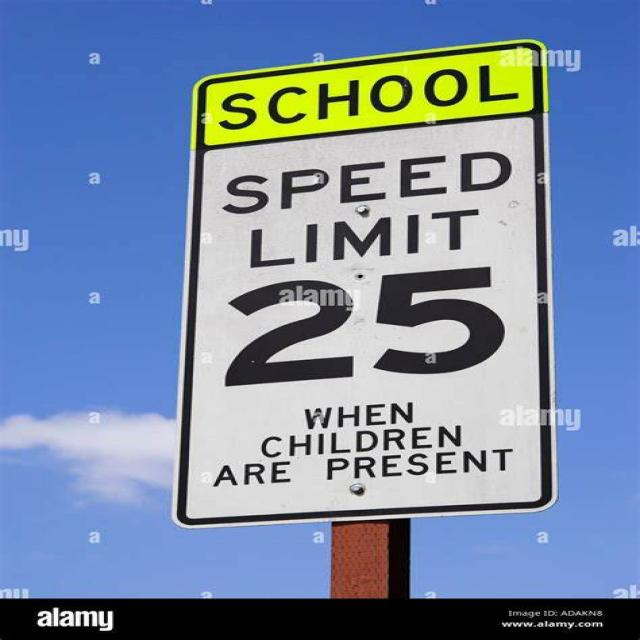speedLimit25: (201, 148, 546, 494)
